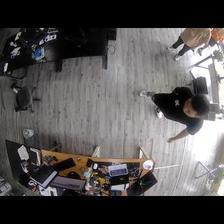normal: (138, 85, 209, 144)
